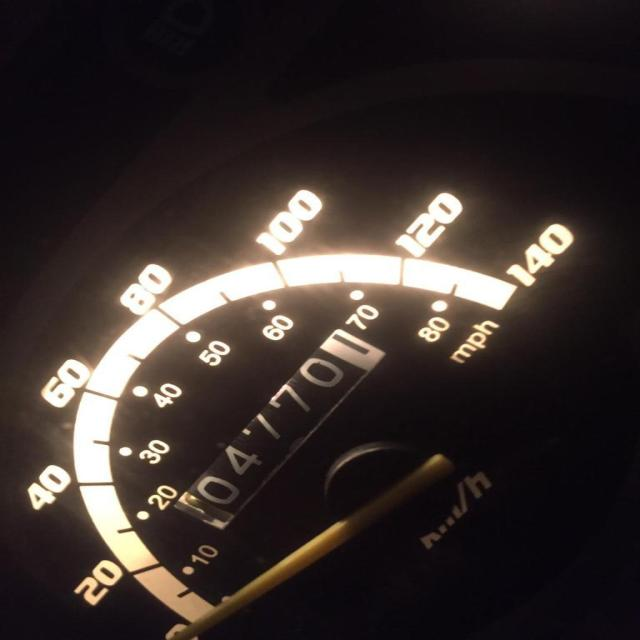odometer: (162, 326, 396, 530)
